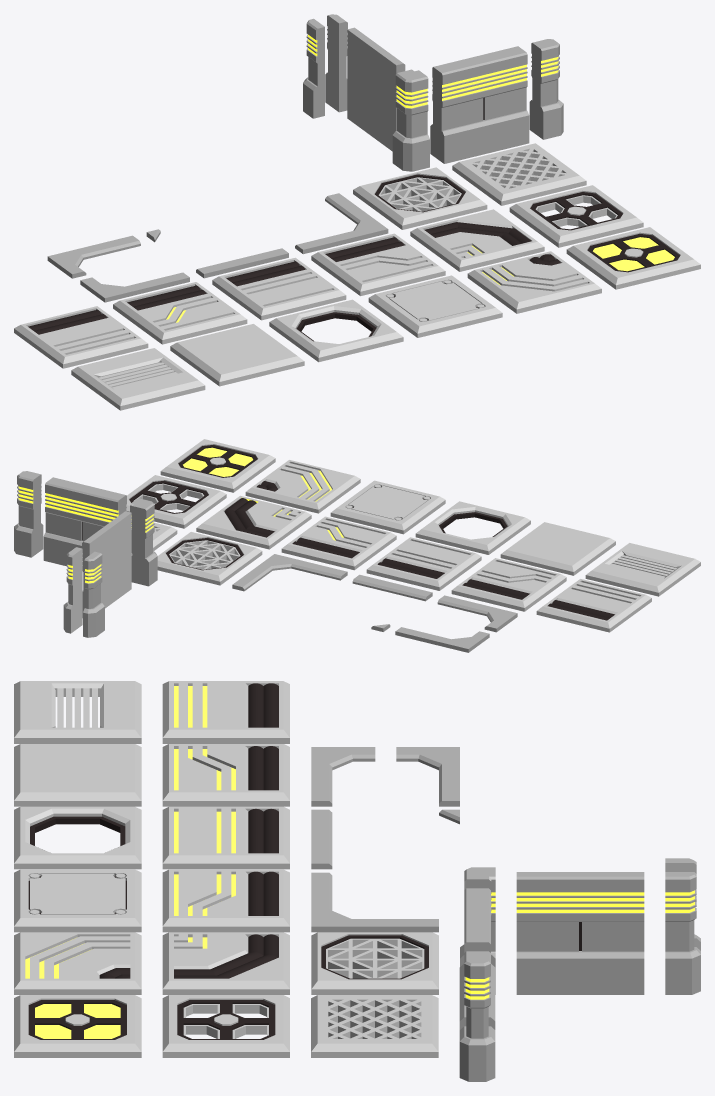
File: floor_tiles_parts.glb
3 views of the same model, one above another, from view 1: azimuth 30°, elevation 25°; view 2: azimuth 150°, elevation 25°; view 3: azimuth 270°, elevation 25° (orthographic). The views are drawn at different scales.
Visible parts, largest first — view 1: Mesh2_M_0131_Silver_0, Mesh19_FrontColor_0, Mesh16_FrontColor_0, Mesh11_FrontColor_0, Mesh27_FrontColor_0, Mesh8_FrontColor_0, Mesh21_FrontColor_0, Mesh14_FrontColor_0, Mesh20_FrontColor_0, Mesh7_FrontColor_0, Mesh10_FrontColor_0, Mesh6_FrontColor_0 (+25 smaller); view 2: Mesh1_M_0131_Silver_0, Mesh16_FrontColor_0, Mesh27_FrontColor_0, Mesh11_FrontColor_0, Mesh8_FrontColor_0, Mesh21_FrontColor_0, Mesh6_FrontColor_0, Mesh10_FrontColor_0, Mesh20_FrontColor_0, Mesh7_FrontColor_0, Mesh22_FrontColor_0, Mesh14_FrontColor_0 (+27 smaller); view 3: Mesh14_M_0131_Silver_0, Mesh27_FrontColor_0, Mesh16_FrontColor_0, Mesh19_FrontColor_0, Mesh11_FrontColor_0, Mesh8_FrontColor_0, Mesh21_FrontColor_0, Mesh7_FrontColor_0, Mesh20_FrontColor_0, Mesh6_FrontColor_0, Mesh22_FrontColor_0, Mesh10_FrontColor_0 (+26 smaller).
Boxes of the visible parts, left/top/right/bottom form: Mesh2_M_0131_Silver_0: left=437, top=49, right=529, bottom=163; Mesh19_FrontColor_0: left=452, top=143, right=586, bottom=205; Mesh16_FrontColor_0: left=170, top=324, right=304, bottom=386; Mesh11_FrontColor_0: left=71, top=348, right=205, bottom=410; Mesh27_FrontColor_0: left=368, top=275, right=502, bottom=337; Mesh8_FrontColor_0: left=467, top=251, right=601, bottom=313; Mesh21_FrontColor_0: left=353, top=167, right=487, bottom=229; Mesh14_FrontColor_0: left=347, top=30, right=396, bottom=151; Mesh20_FrontColor_0: left=212, top=257, right=346, bottom=320; Mesh7_FrontColor_0: left=311, top=233, right=445, bottom=296; Mesh10_FrontColor_0: left=14, top=306, right=148, bottom=368; Mesh6_FrontColor_0: left=113, top=282, right=247, bottom=344; Mesh1_M_0131_Silver_0: left=43, top=480, right=122, bottom=566; Mesh16_FrontColor_0: left=500, top=522, right=615, bottom=575; Mesh27_FrontColor_0: left=330, top=480, right=445, bottom=534; Mesh11_FrontColor_0: left=585, top=543, right=700, bottom=596; Mesh8_FrontColor_0: left=245, top=460, right=360, bottom=513; Mesh21_FrontColor_0: left=157, top=532, right=262, bottom=585; Mesh6_FrontColor_0: left=451, top=558, right=566, bottom=611; Mesh10_FrontColor_0: left=536, top=579, right=651, bottom=632; Mesh20_FrontColor_0: left=366, top=537, right=481, bottom=590; Mesh7_FrontColor_0: left=281, top=516, right=396, bottom=570; Mesh22_FrontColor_0: left=196, top=495, right=311, bottom=549; Mesh14_FrontColor_0: left=89, top=513, right=131, bottom=608; Mesh14_M_0131_Silver_0: left=516, top=872, right=644, bottom=994; Mesh27_FrontColor_0: left=14, top=869, right=141, bottom=932; Mesh16_FrontColor_0: left=14, top=744, right=141, bottom=806; Mesh19_FrontColor_0: left=311, top=995, right=438, bottom=1057; Mesh11_FrontColor_0: left=14, top=681, right=141, bottom=743; Mesh8_FrontColor_0: left=14, top=932, right=141, bottom=994; Mesh21_FrontColor_0: left=311, top=932, right=438, bottom=994; Mesh7_FrontColor_0: left=162, top=869, right=289, bottom=932; Mesh20_FrontColor_0: left=162, top=806, right=289, bottom=869; Mesh6_FrontColor_0: left=162, top=744, right=289, bottom=806; Mesh22_FrontColor_0: left=162, top=932, right=289, bottom=994; Mesh10_FrontColor_0: left=162, top=681, right=289, bottom=743.
Bounding box in the file's own units: 291 × 40 × 215.
